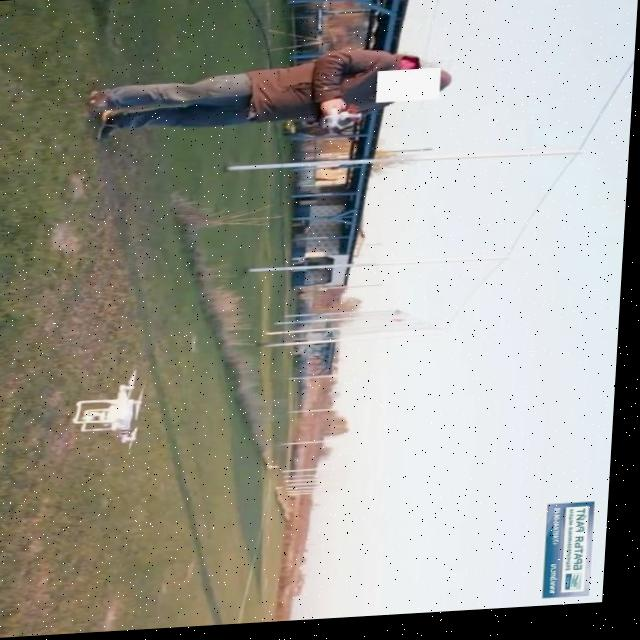drone: (76, 375, 157, 448)
